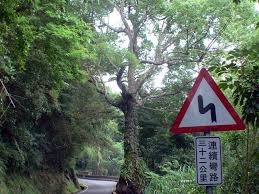Double_bend_left: (168, 65, 247, 132)
